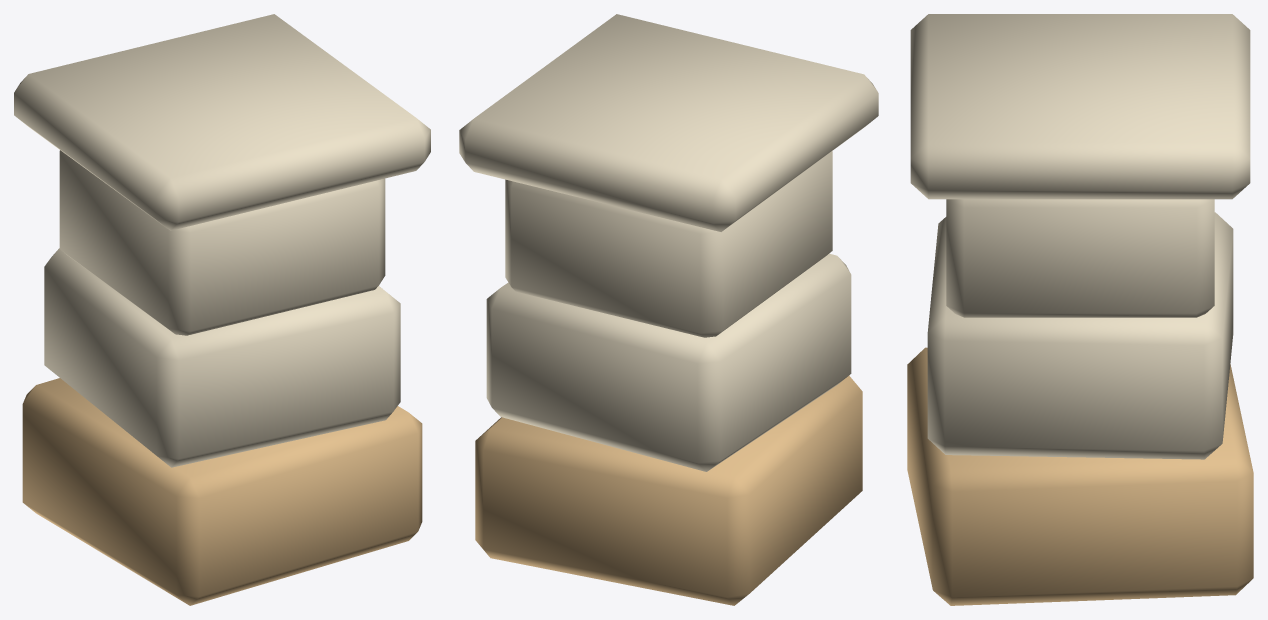
The model's file is fence-stone-post.glb.
3 renders of one model, left to right at view 1: azimuth 30°, elevation 25°; view 2: azimuth 150°, elevation 25°; view 3: azimuth 270°, elevation 25°, orthographic. The views are drawn at different scales.
Parts seen in each view (by area): view 1: post; view 2: post; view 3: post.
Boxes of the visible parts, <box> form: post: <box>14,14,430,605</box>; post: <box>459,14,878,605</box>; post: <box>907,14,1253,605</box>.
Size of the model in its own units: 0.3871 by 0.57 by 0.3871.
